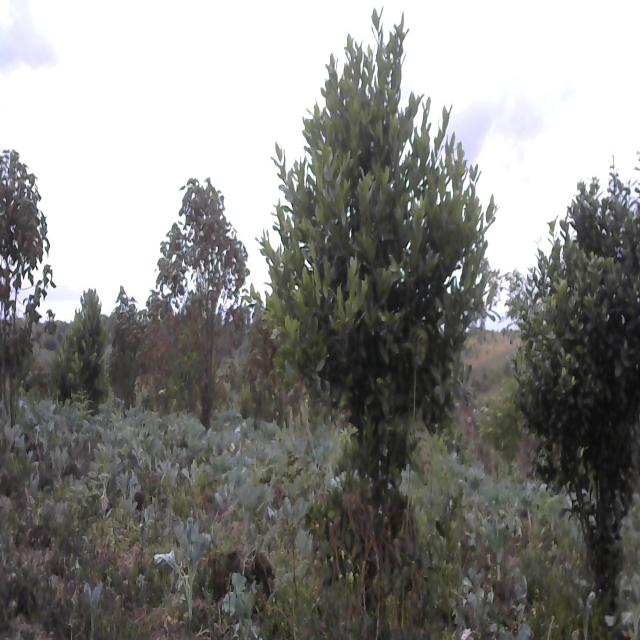other: (255, 0, 509, 599), (162, 180, 253, 446), (0, 146, 57, 458)
